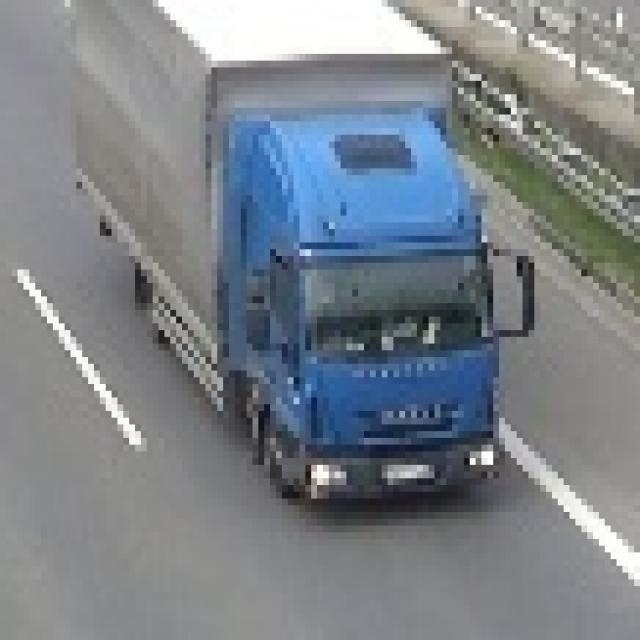Truck: (70, 0, 534, 505)
